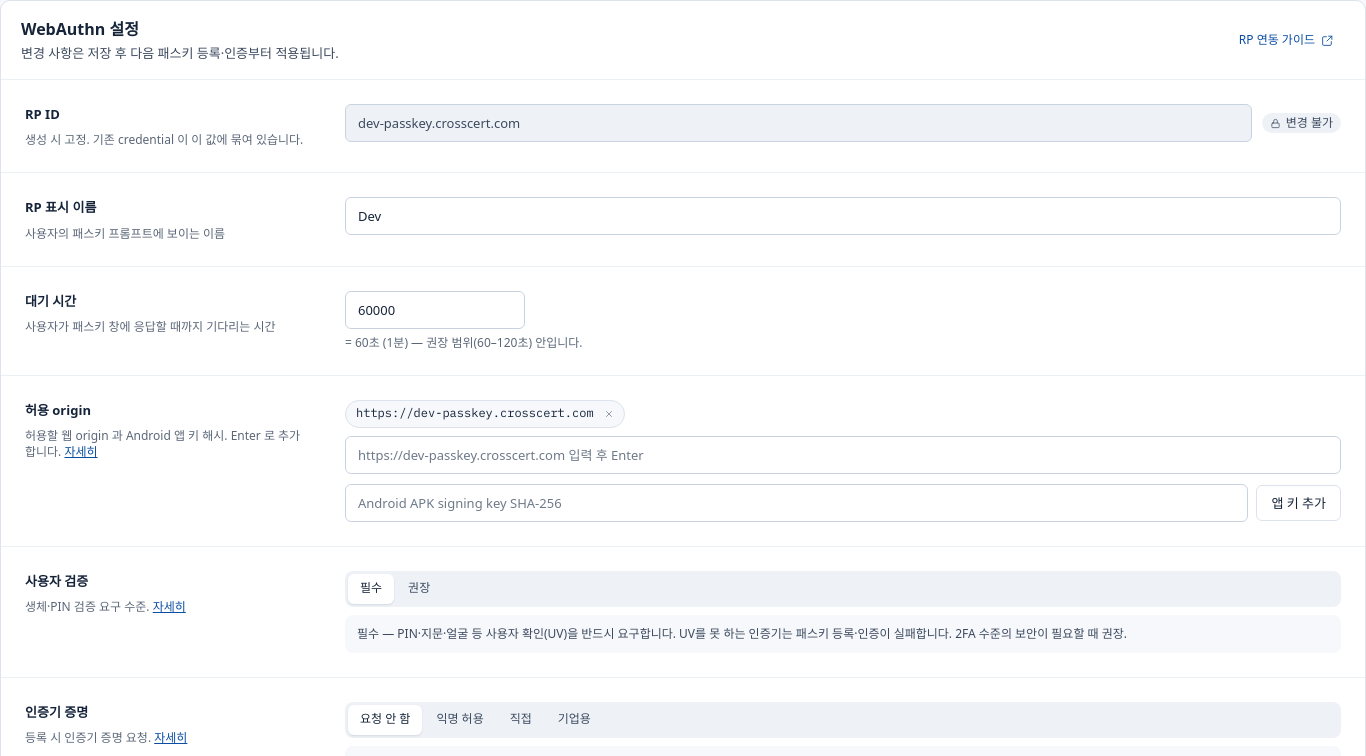
Test: WebauthnConfigTab V2 › 저장… → L2 변경 비교(화면 라벨·초 단위) → 기존과 같은 payload 로 update
Replace the text in the number field labelled "대기 시간" with "120000" at x=435, y=310, box [345, 291, 525, 329]
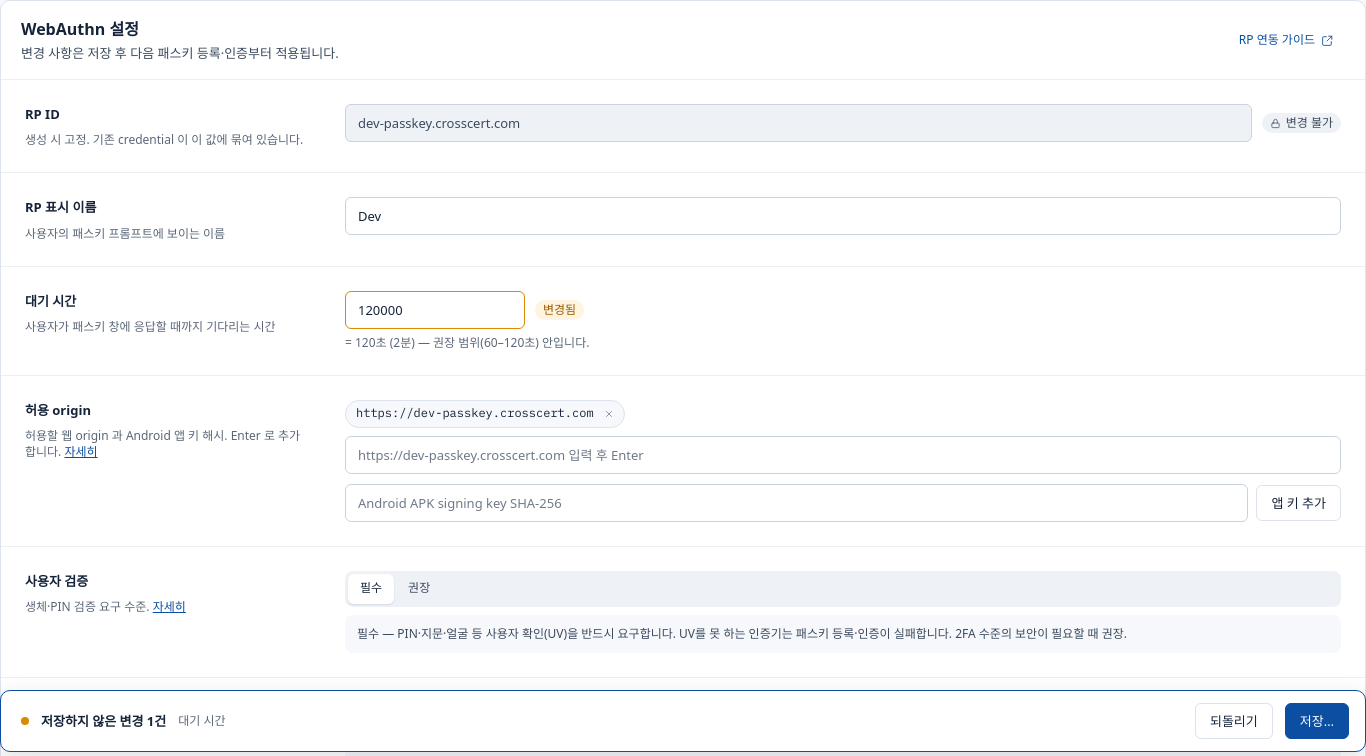
Click the button "저장…".
click(1317, 721)  # box [1285, 703, 1349, 739]
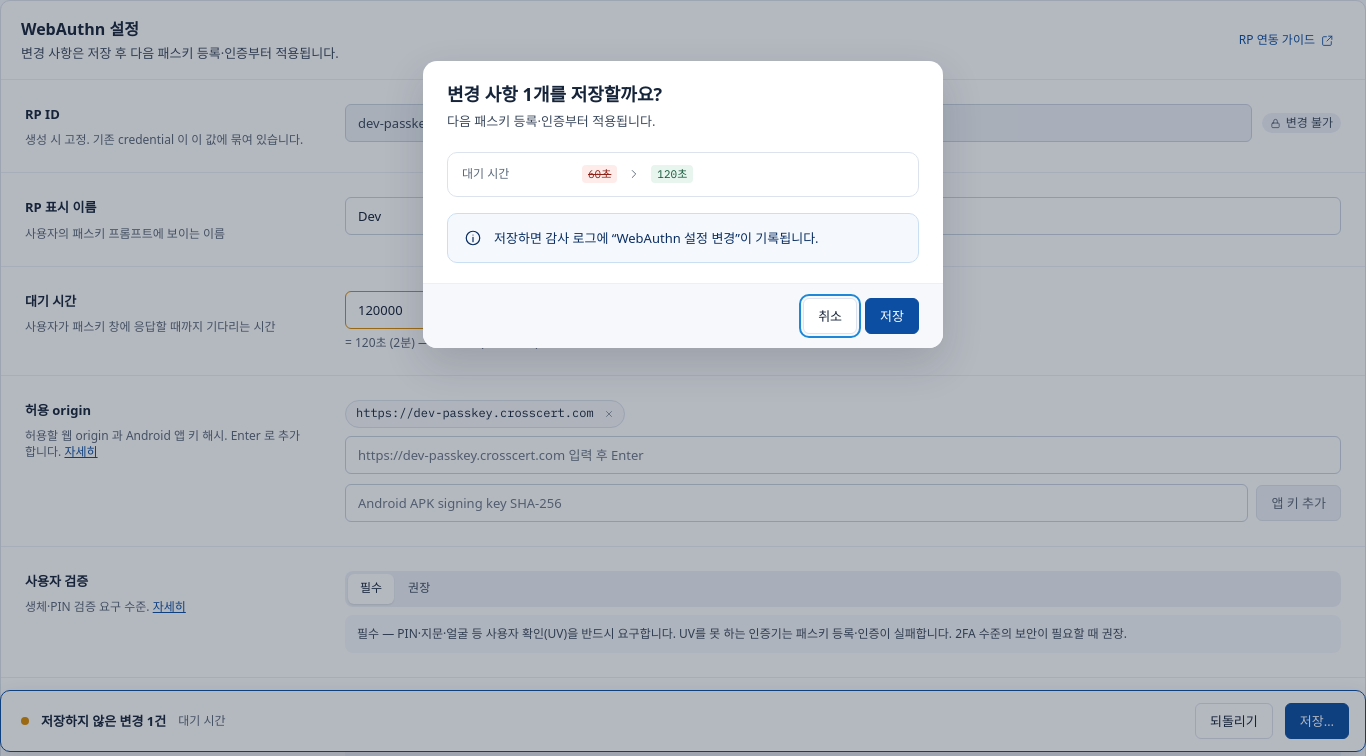
expect the text "다음 패스키 등록·인증부터 적용됩니다." is shown: met, box [447, 112, 656, 130]
expect the text "60초" is shown: met, box [582, 165, 617, 183]
expect the text "120초" is shown: met, box [651, 165, 693, 183]
Click the button "저장".
click(892, 316)  # box [865, 298, 919, 334]
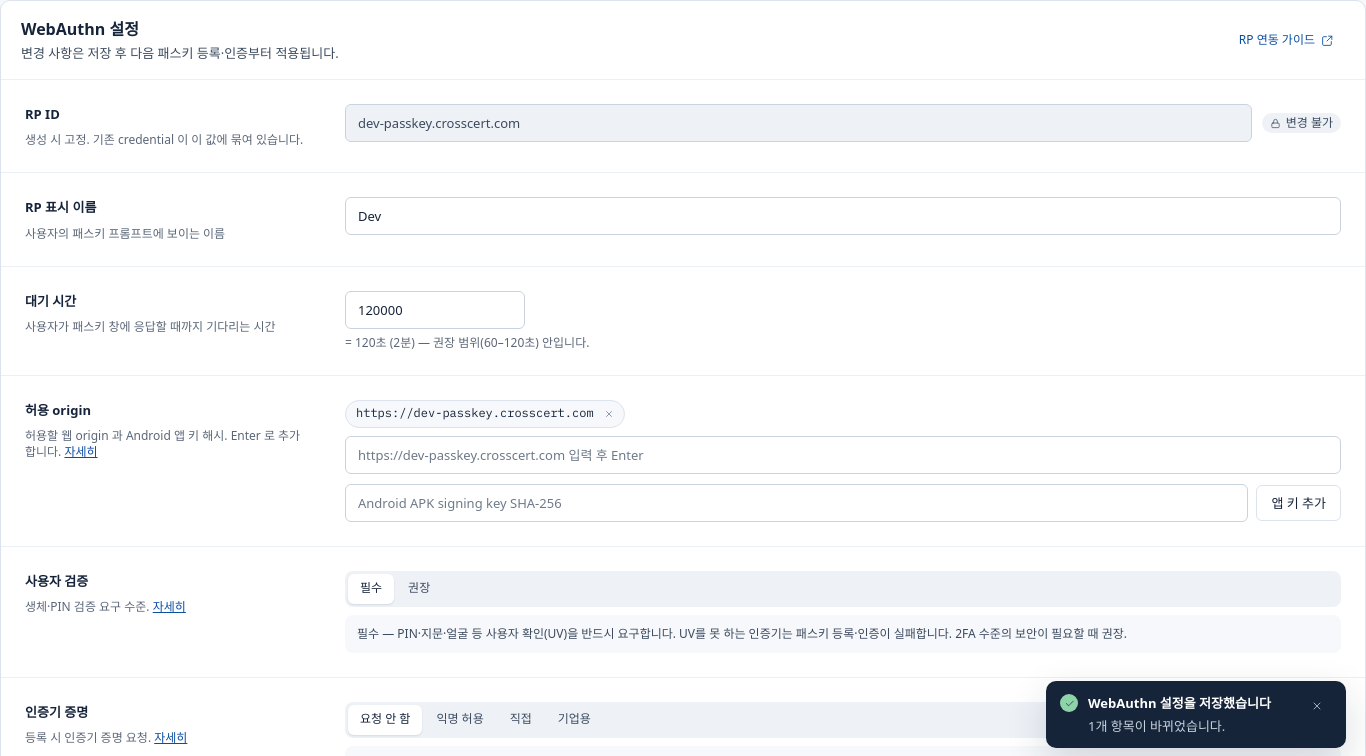
expect the dialog is gone: met
expect the text "WebAuthn 설정을 저장했습니다" is shown: met, box [1088, 693, 1292, 714]
